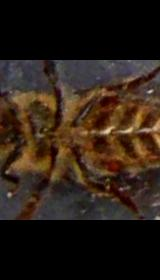varroa_mite: (97, 154, 127, 172)
